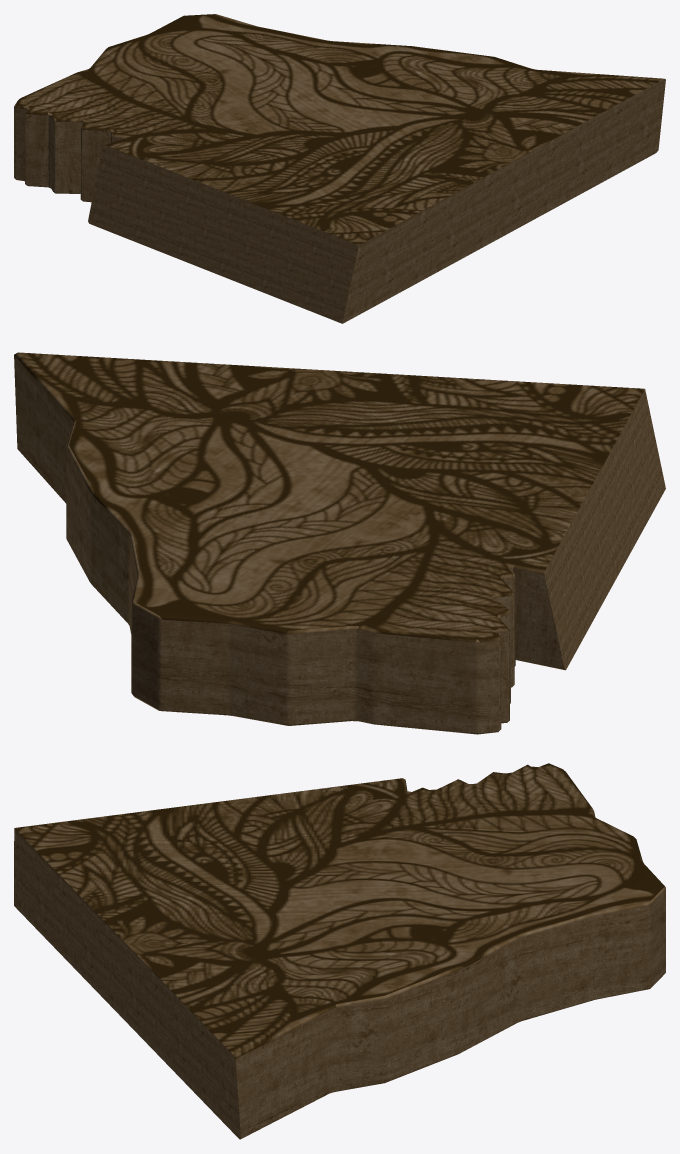
File: mdl_brush_lionpiece1.gltf
3 views of the same model, one above another, from view 1: azimuth 30°, elevation 25°; view 2: azimuth 150°, elevation 25°; view 3: azimuth 270°, elevation 25° (orthographic). The views are drawn at different scales.
Parts seen in each view (by area): view 1: Piece 1; view 2: Piece 1; view 3: Piece 1.
Part boxes in pixels (x1,y1,x2,y2): Piece 1: (14, 14, 665, 323); Piece 1: (14, 352, 665, 734); Piece 1: (14, 763, 665, 1139).
Size of the model in its own units: 1.27 by 0.1766 by 1.19.
2 materials, 2 textured.
